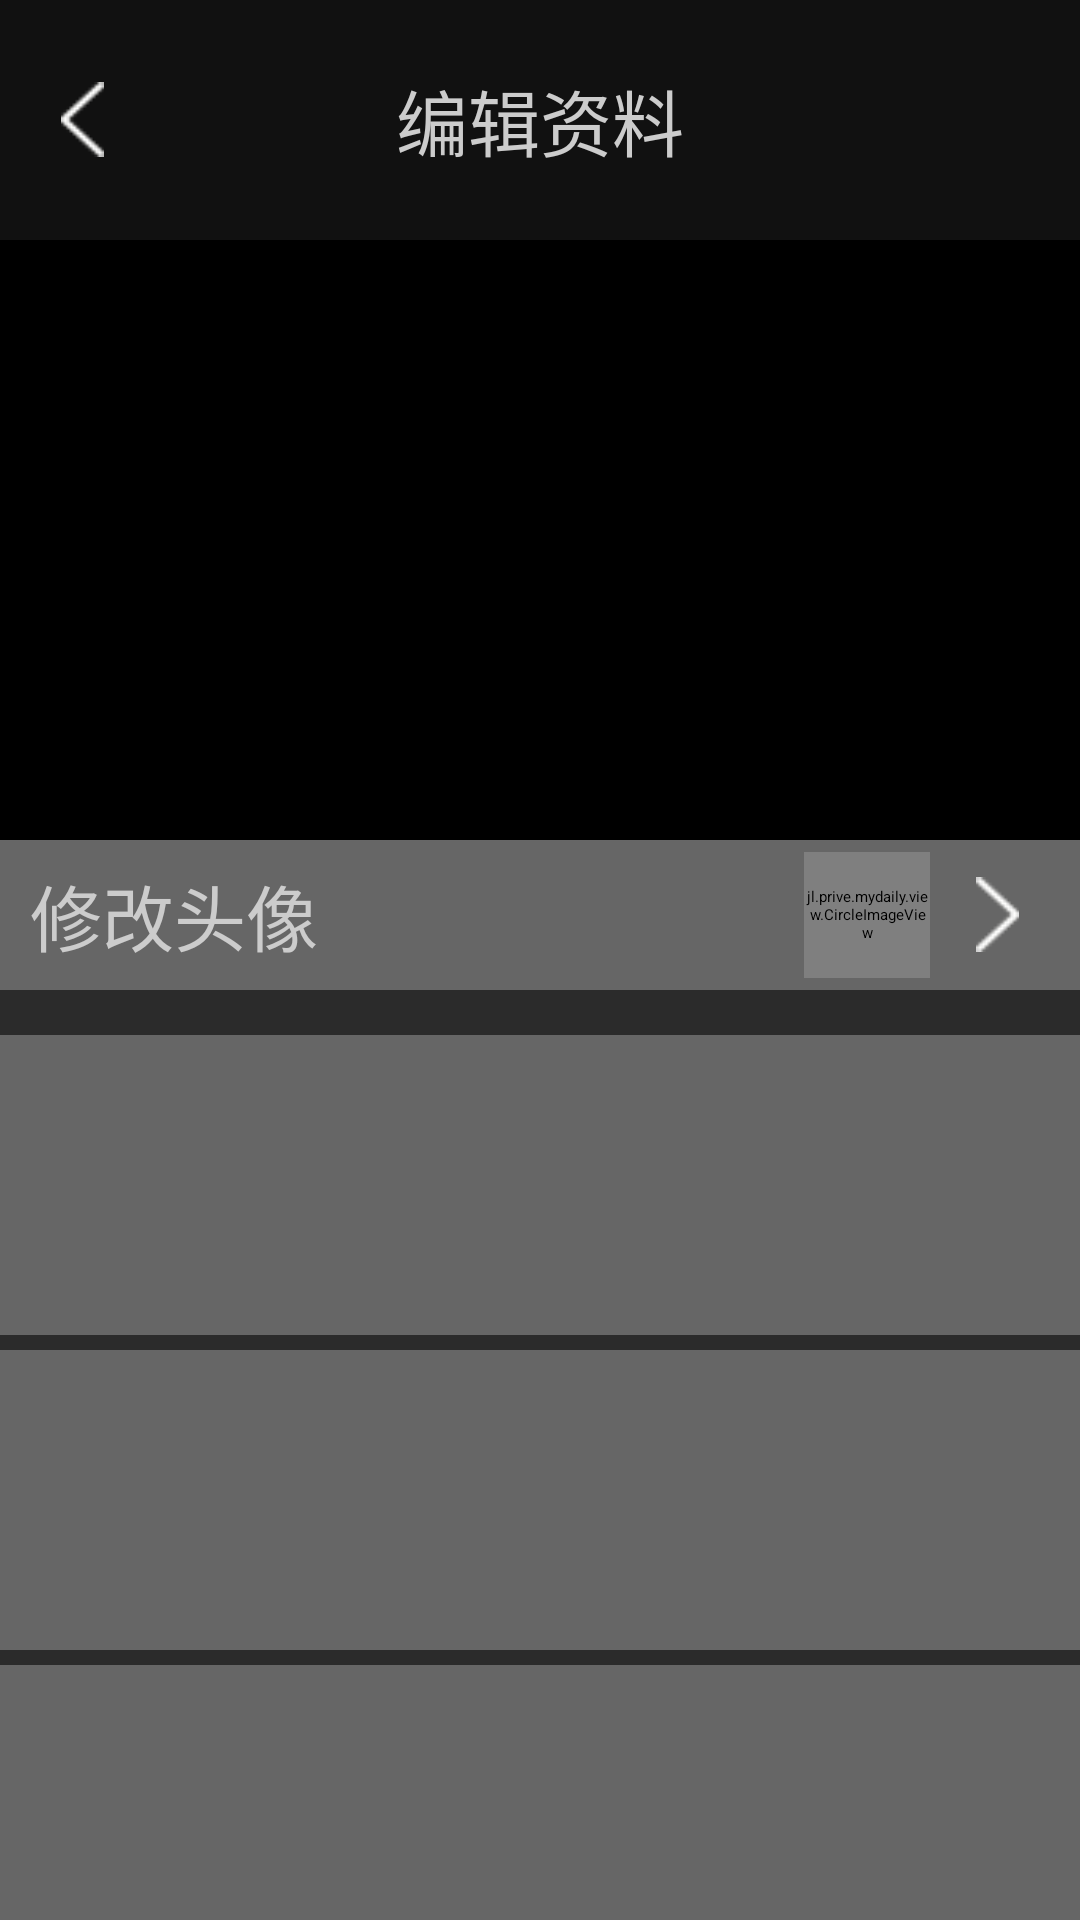

Where to tap for icons on this 1080 x 1920 app screen, as (x,y):
webview back: (82,119)
webview go: (997,914)
